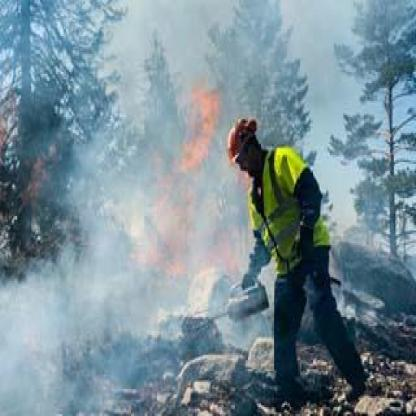fire: (134, 64, 228, 265)
